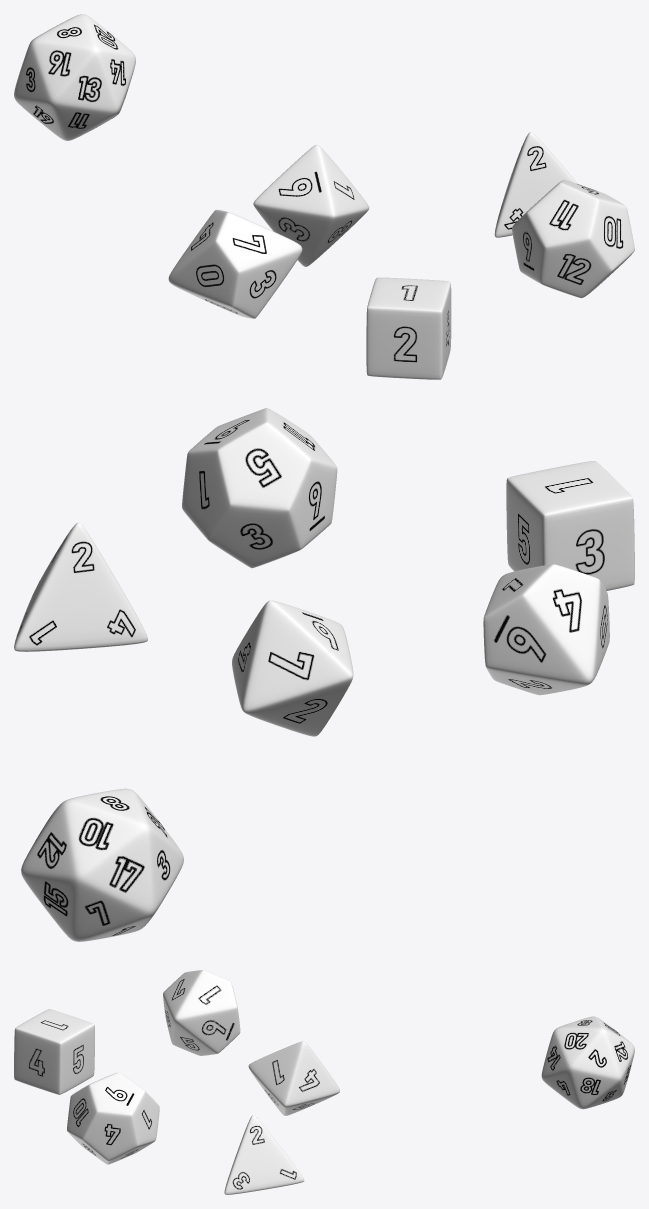
Rendered from dice.glb.
The picture shows the model from 3 angles, top to bottom: view 1: azimuth 30°, elevation 25°; view 2: azimuth 150°, elevation 25°; view 3: azimuth 270°, elevation 25°; orthographic projection. The views are drawn at different scales.
Parts seen in each view (by area): view 1: Solid_1, Solid.004_4, Cone_5, Solid.002_2, Solid.003_3, Solid.001_0; view 2: Solid.004_4, Solid_1, Cone_5, Solid.002_2, Solid.003_3, Solid.001_0; view 3: Solid_1, Solid.004_4, Solid.002_2, Cone_5, Solid.003_3, Solid.001_0.
Boxes of the visible parts, x1,y1,x2,y2 form: Solid_1: (14,14,135,140); Solid.004_4: (512,179,634,298); Cone_5: (168,209,302,318); Solid.002_2: (366,277,451,379); Solid.003_3: (253,145,369,266); Solid.001_0: (494,132,577,237); Solid.004_4: (182,408,337,568); Solid_1: (21,788,183,941); Cone_5: (483,564,609,695); Solid.002_2: (506,461,634,590); Solid.003_3: (232,600,353,736); Solid.001_0: (14,522,147,651); Solid_1: (541,1016,634,1109); Solid.004_4: (67,1072,159,1164); Solid.002_2: (14,1009,94,1094); Cone_5: (163,970,240,1055); Solid.003_3: (248,1041,339,1115); Solid.001_0: (224,1115,304,1194).
Bounding box in the file's own units: 7.27 × 2.06 × 11.87.
Materials: 6 (6 with a texture image).
